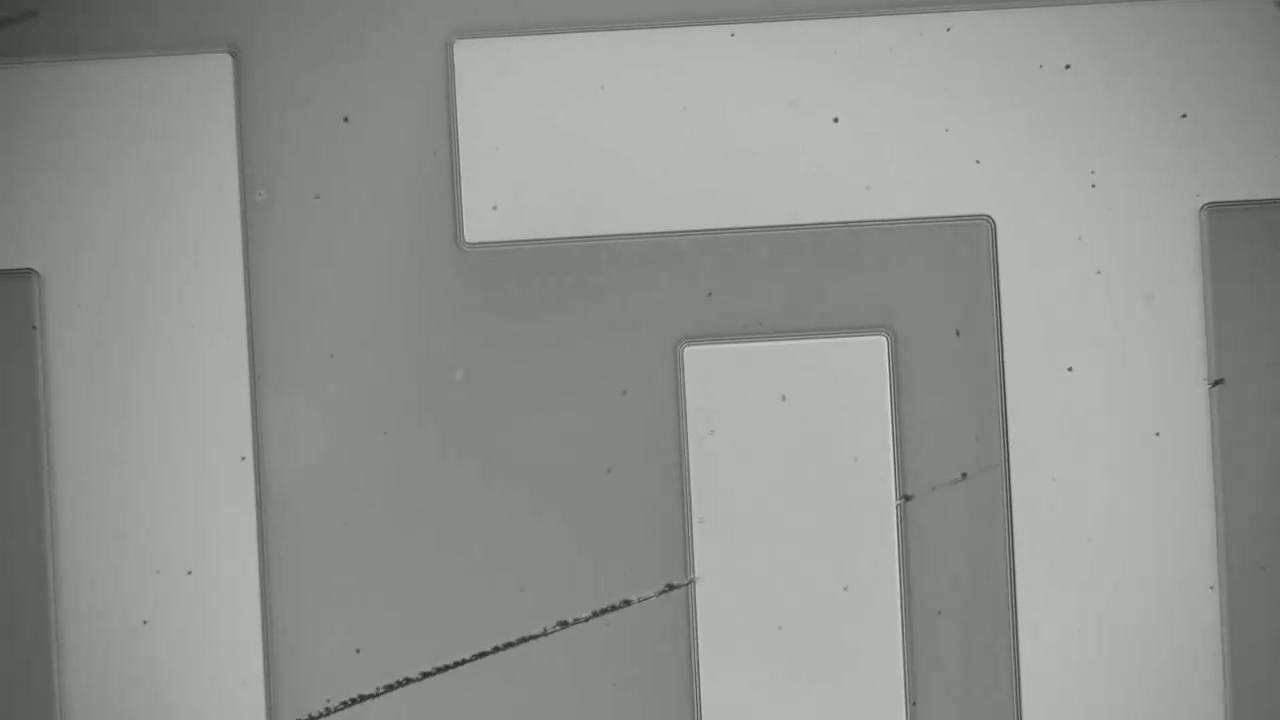scratch: (309, 579, 690, 714), (902, 455, 1000, 518)
